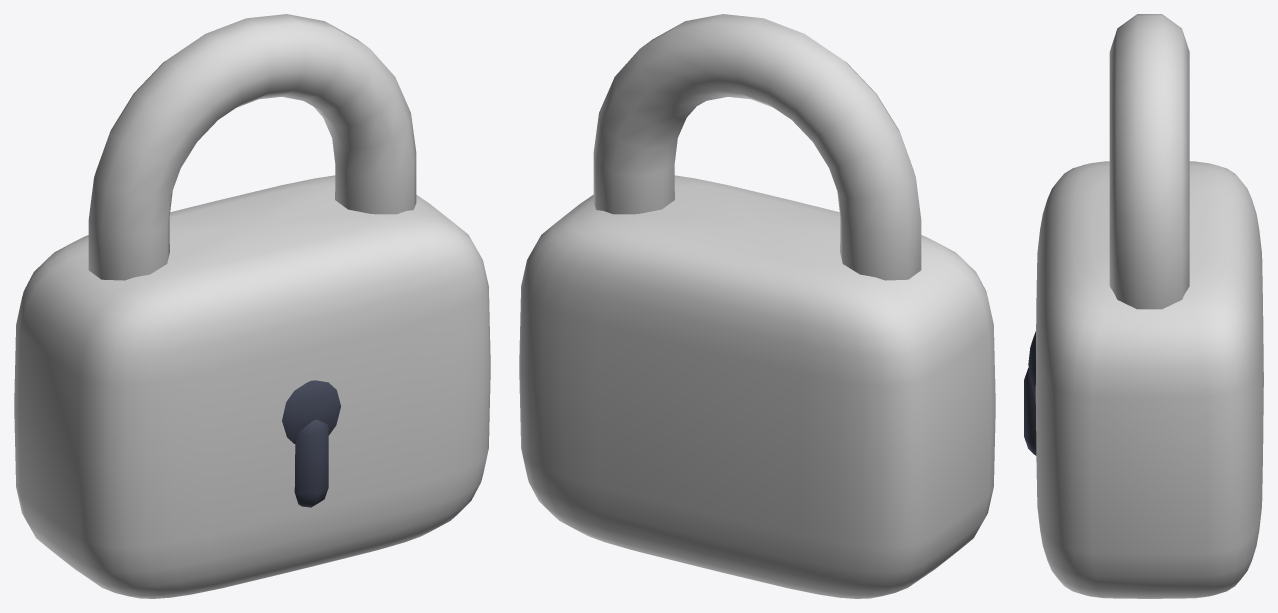
File: lock.glb
3 renders of one model, left to right at view 1: azimuth 30°, elevation 25°; view 2: azimuth 150°, elevation 25°; view 3: azimuth 270°, elevation 25°, orthographic. The views are drawn at different scales.
Visible parts, largest first — view 1: lock; view 2: lock; view 3: lock.
Part boxes in pixels (x1,y1,x2,y2): lock: (14, 14, 490, 598); lock: (519, 14, 995, 598); lock: (1024, 14, 1263, 598).
Size of the model in its own units: 0.8192 by 1 by 0.4301.
